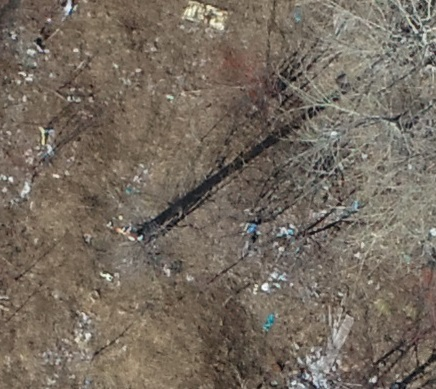opora: (105, 201, 187, 246)
